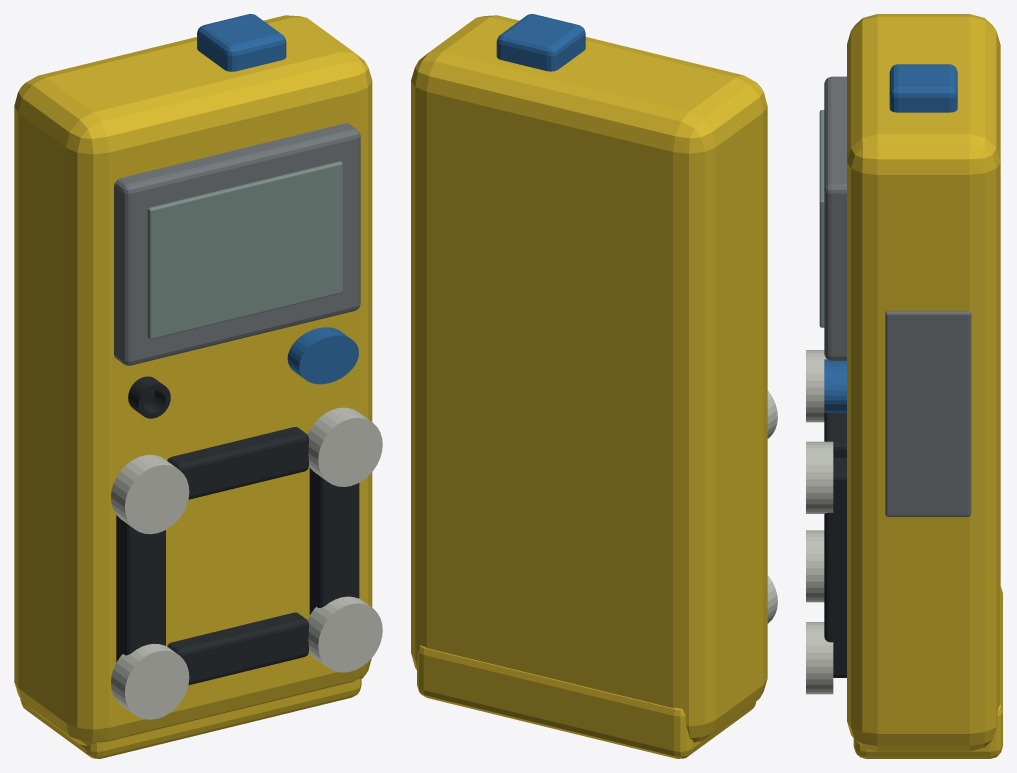
Rendered from full.glb.
3 renders of one model, left to right at view 1: azimuth 30°, elevation 25°; view 2: azimuth 150°, elevation 25°; view 3: azimuth 270°, elevation 25°, orthographic. The views are drawn at different scales.
Visible parts, largest first — view 1: Detector main shell, Inset blank LCD, Gray display bezel, Lower surround side 1, Lower surround side -1, Interrupted surround cross 0.019, Interrupted surround cross 0.063, Bottom bumper, Pale circular sensor cover 2, Pale circular sensor cover 3, Pale circular sensor cover 0, Pale circular sensor cover 1 (+3 smaller); view 2: Detector main shell, Bottom bumper, Small blue top projection; view 3: Detector main shell, Narrow side inset, Gray display bezel, Lower surround side 1, Small blue top projection, Pale circular sensor cover 3, Bottom bumper, Pale circular sensor cover 1, Pale circular sensor cover 2, Pale circular sensor cover 0, Inset blank LCD, Blue oval button (+1 smaller).
Boxes of the visible parts, x1,y1,x2,y2 form: Detector main shell: (14,15,372,746); Inset blank LCD: (147,161,342,339); Gray display bezel: (114,123,360,365); Lower surround side 1: (309,468,359,614); Lower surround side -1: (116,515,165,662); Interrupted surround cross 0.019: (167,612,308,685); Interrupted surround cross 0.063: (167,427,308,499); Bottom bumper: (20,678,361,758); Pale circular sensor cover 2: (111,454,189,534); Pale circular sensor cover 3: (307,407,382,486); Pale circular sensor cover 0: (111,643,189,719); Pale circular sensor cover 1: (307,596,382,672); Detector main shell: (411,15,767,742); Bottom bumper: (417,645,756,758); Small blue top projection: (496,14,585,71); Detector main shell: (847,14,1000,751); Narrow side inset: (885,311,971,516); Gray display bezel: (824,76,846,360); Lower surround side 1: (824,457,846,677); Small blue top projection: (889,64,957,112); Pale circular sensor cover 3: (806,441,833,513); Bottom bumper: (853,587,1002,758); Pale circular sensor cover 1: (806,622,833,694); Pale circular sensor cover 2: (806,350,826,422); Pale circular sensor cover 0: (806,530,824,602); Inset blank LCD: (819,110,824,327); Blue oval button: (824,359,846,412).
Bounding box in the file's own units: 0.076 × 0.1575 × 0.0435.
